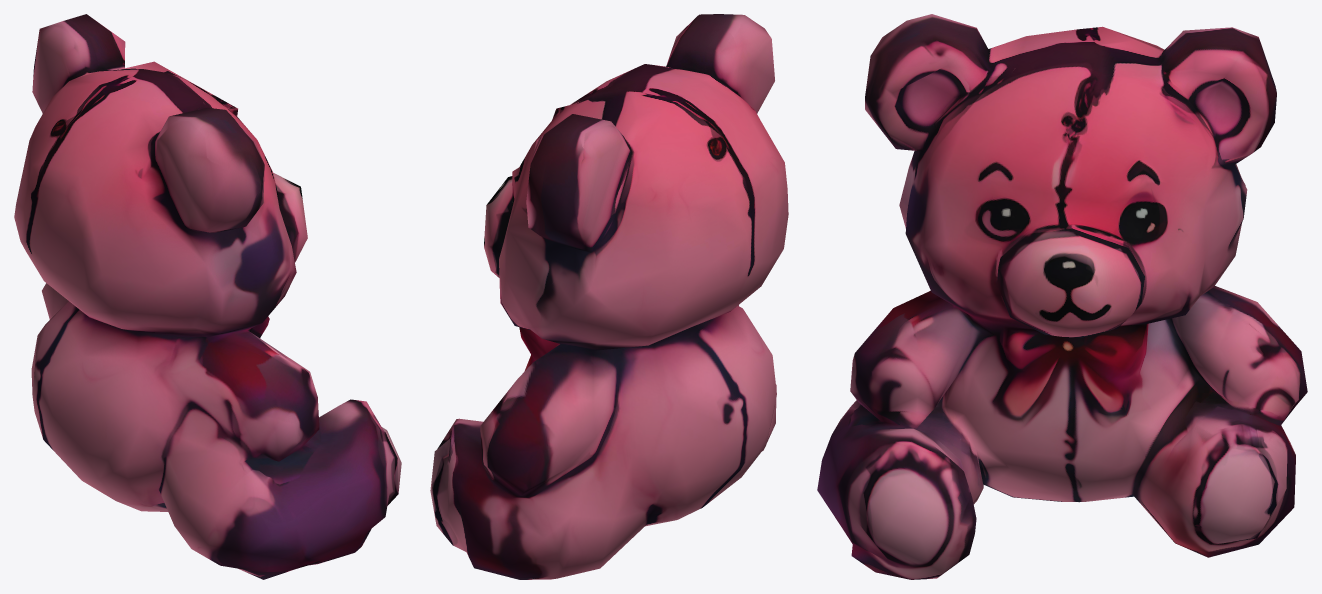
Rendered from pink+teddy+bear+3d+model.obj.
3 views of the same model, side by side, from view 1: azimuth 30°, elevation 25°; view 2: azimuth 150°, elevation 25°; view 3: azimuth 270°, elevation 25° (orthographic). The views are drawn at different scales.
Parts seen in each view (by area): view 1: tripo_node_c1a1511b-6c39-4a0f-8e98-677acd333f24; view 2: tripo_node_c1a1511b-6c39-4a0f-8e98-677acd333f24; view 3: tripo_node_c1a1511b-6c39-4a0f-8e98-677acd333f24.
Part boxes in pixels (x1,y1,x2,y2): tripo_node_c1a1511b-6c39-4a0f-8e98-677acd333f24: [14, 14, 401, 579]; tripo_node_c1a1511b-6c39-4a0f-8e98-677acd333f24: [430, 14, 788, 579]; tripo_node_c1a1511b-6c39-4a0f-8e98-677acd333f24: [817, 14, 1307, 579].
Bounding box in the file's own units: 0.656 × 1 × 0.9059.
1 material, 1 textured.
